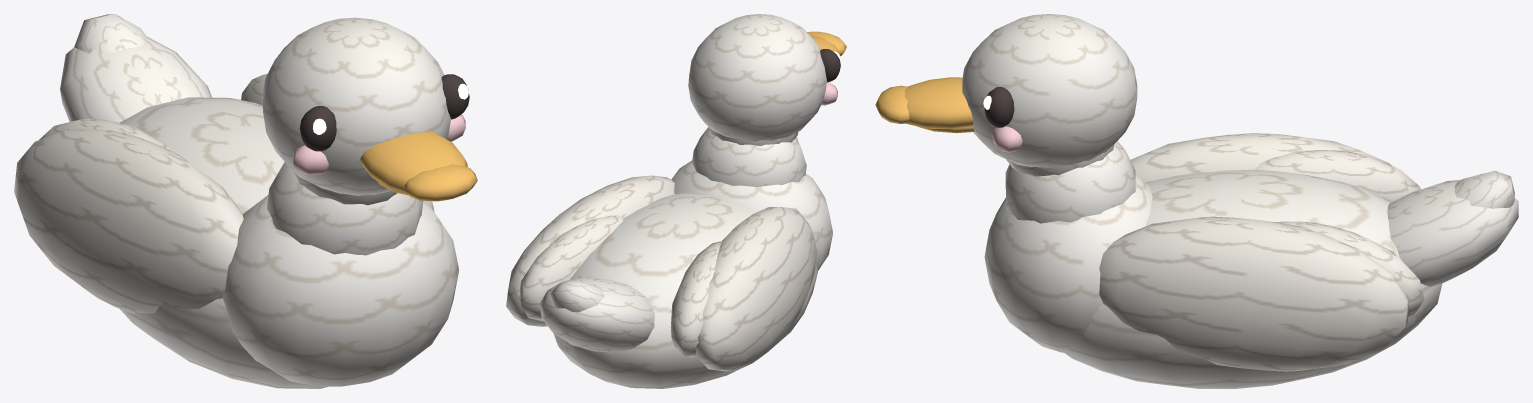
The model's file is anime_duck_white.glb.
3 renders of one model, left to right at view 1: azimuth 30°, elevation 25°; view 2: azimuth 150°, elevation 25°; view 3: azimuth 270°, elevation 25°, orthographic. The views are drawn at different scales.
Parts seen in each view (by area): view 1: anime_duck_white; view 2: anime_duck_white; view 3: anime_duck_white.
Part boxes in pixels (left/top/right/bottom): anime_duck_white: left=14, top=14, right=477, bottom=388; anime_duck_white: left=506, top=14, right=846, bottom=388; anime_duck_white: left=875, top=14, right=1518, bottom=388.
Bounding box in the file's own units: 0.5391 × 0.6248 × 1.04.
6 materials, 2 textured.
